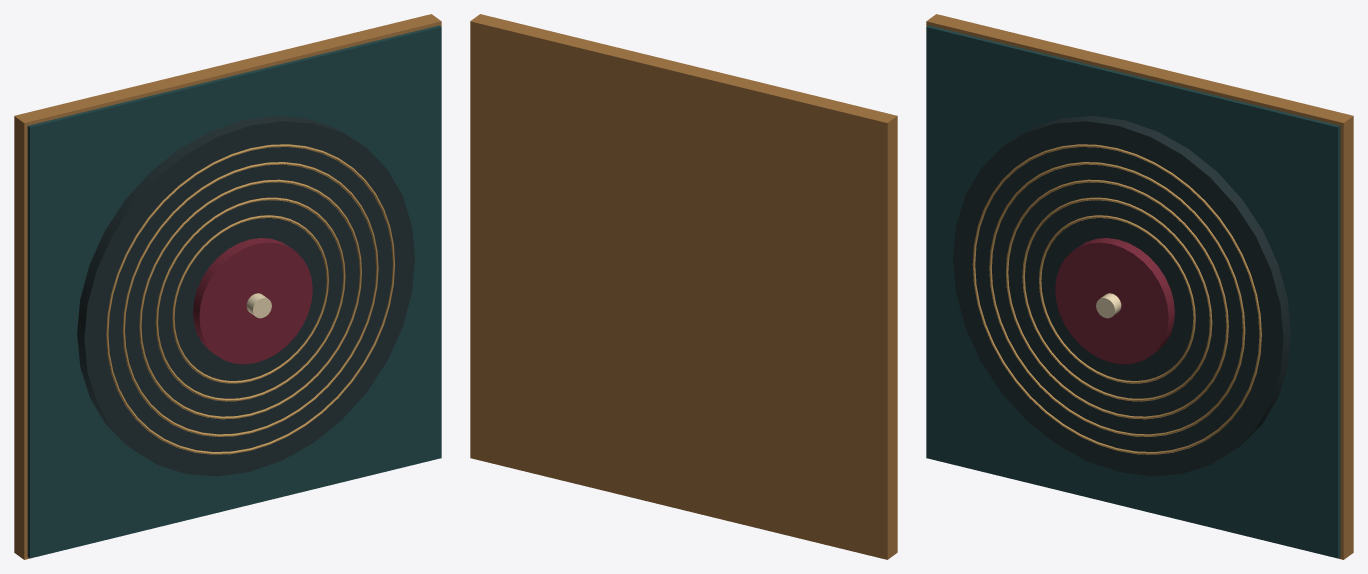
Rendered from music.glb.
3 renders of one model, left to right at view 1: azimuth 30°, elevation 25°; view 2: azimuth 150°, elevation 25°; view 3: azimuth 330°, elevation 25°, orthographic.
Visible parts, largest first — view 1: sleeve-face, vinyl, sleeve-corrugation, label, groove-4, groove-3, groove-2, groove-1, groove-0; view 2: sleeve-corrugation; view 3: sleeve-face, vinyl, sleeve-corrugation, label, groove-4, groove-3, groove-2, groove-1, groove-0.
Part boxes in pixels (x1=…): sleeve-face: x1=27, y1=25, x2=441, y2=558; vinyl: x1=77, y1=116, x2=414, y2=476; sleeve-corrugation: x1=14, y1=14, x2=441, y2=559; label: x1=193, y1=238, x2=312, y2=364; groove-4: x1=106, y1=144, x2=395, y2=454; groove-3: x1=122, y1=162, x2=378, y2=436; groove-2: x1=139, y1=179, x2=361, y2=419; groove-1: x1=155, y1=197, x2=345, y2=401; groove-0: x1=172, y1=215, x2=328, y2=383; sleeve-corrugation: x1=470, y1=14, x2=897, y2=559; sleeve-face: x1=926, y1=25, x2=1340, y2=558; vinyl: x1=953, y1=116, x2=1290, y2=476; sleeve-corrugation: x1=926, y1=14, x2=1353, y2=559; label: x1=1055, y1=238, x2=1174, y2=364; groove-4: x1=972, y1=144, x2=1261, y2=454; groove-3: x1=989, y1=162, x2=1245, y2=436; groove-2: x1=1006, y1=179, x2=1228, y2=419; groove-1: x1=1022, y1=197, x2=1212, y2=401; groove-0: x1=1039, y1=215, x2=1195, y2=383.
Bounding box in the file's own units: 2.65 × 2.65 × 0.435.
